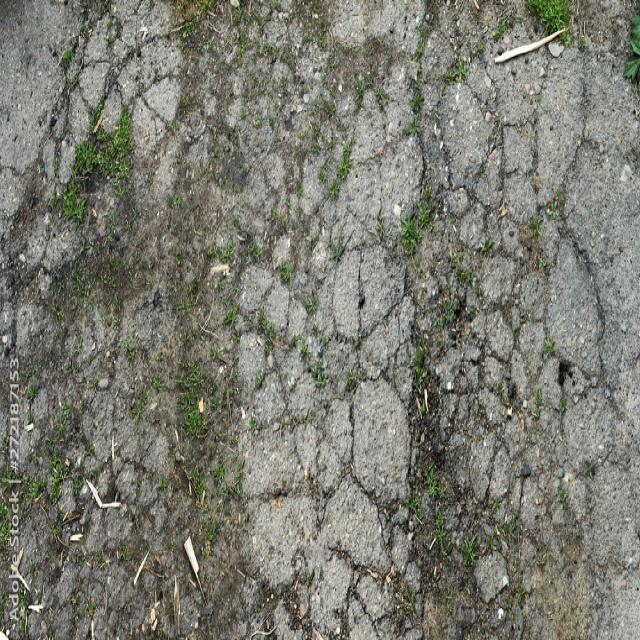Drain Hole: (266, 50, 612, 614)
